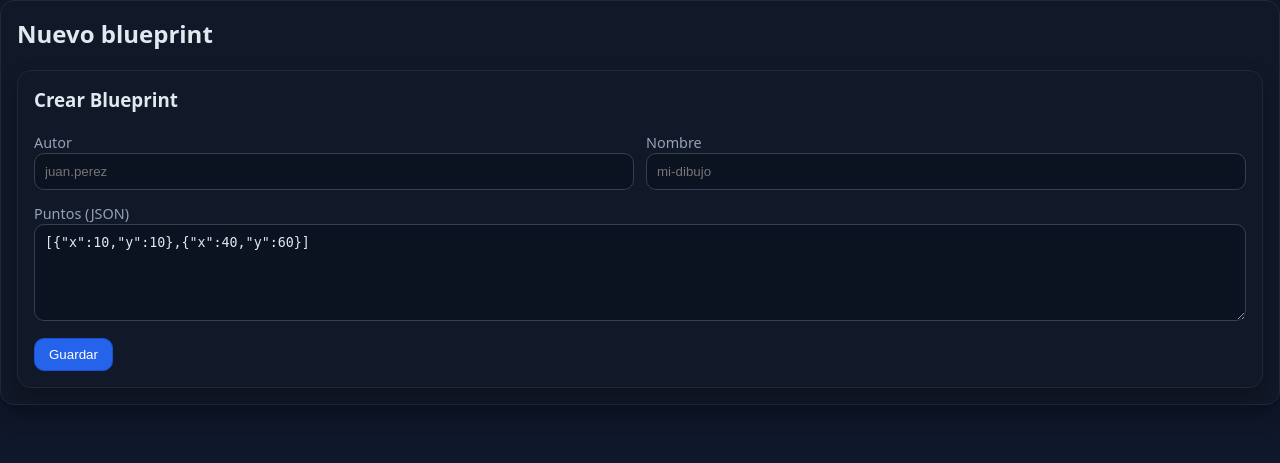
NewBlueprintPage › muestra un mensaje de error si la creación falla (p. ej. 403 por scope insuficiente)
Type "student" into the field labelled "Autor".
click(334, 171); type("student")  # box [34,153,634,190]
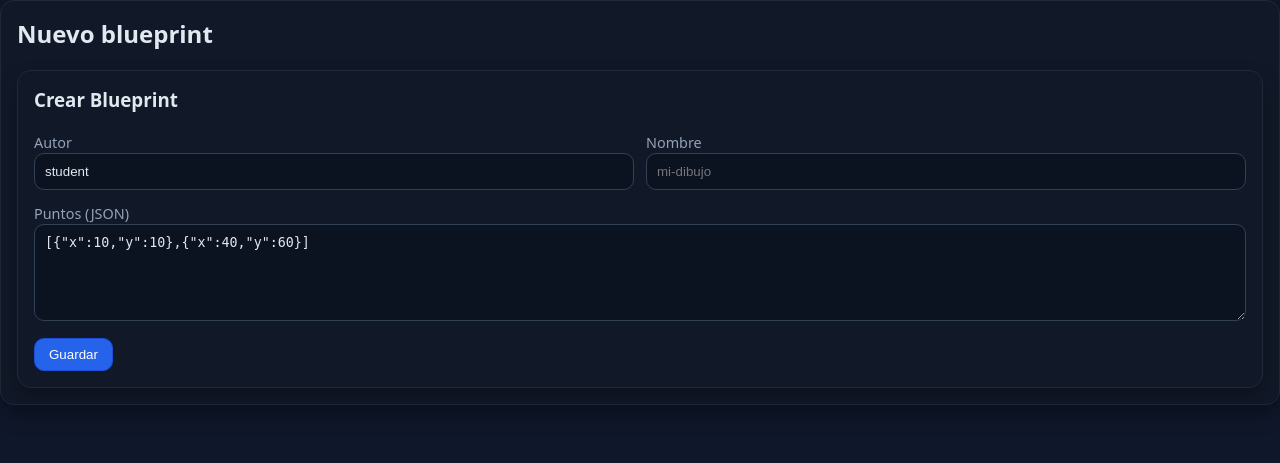
Type "house" into the field labelled "Nombre".
click(946, 171); type("house")  # box [646,153,1246,190]
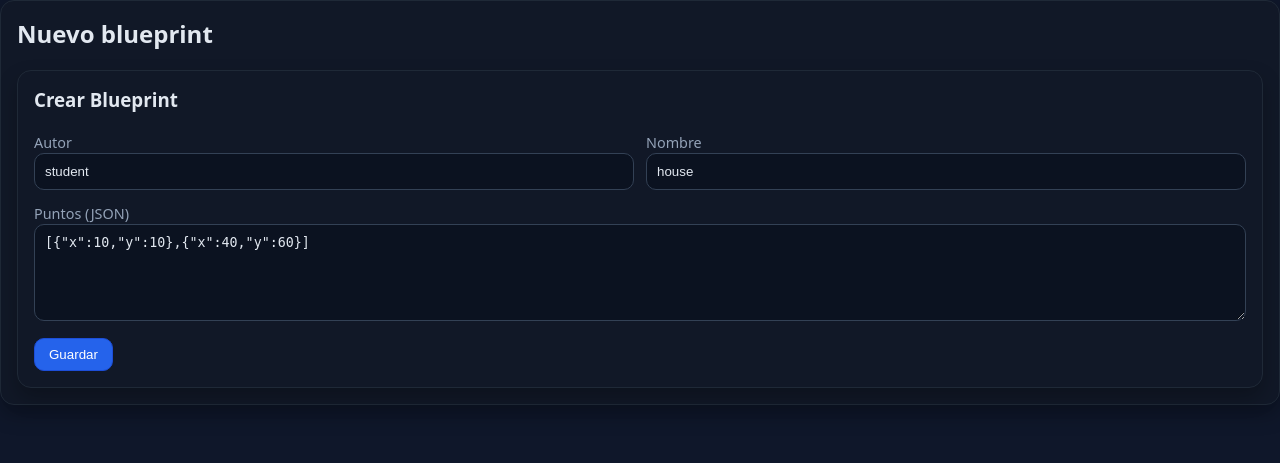
Submit the form from the button "Guardar", box [34,338,113,371]
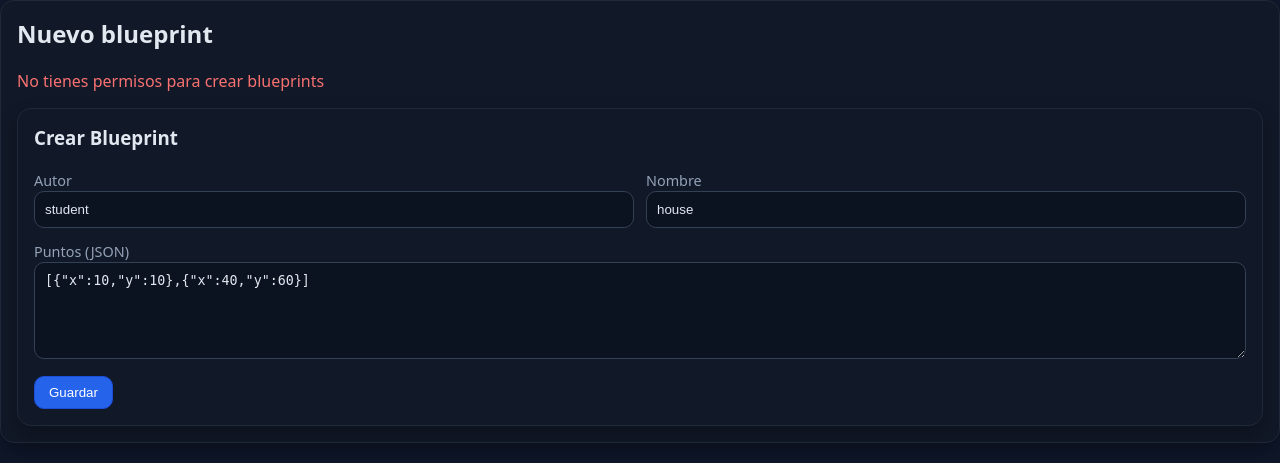
Now the text "No tienes permisos para crear blueprints" is shown, box [17,70,324,92]
